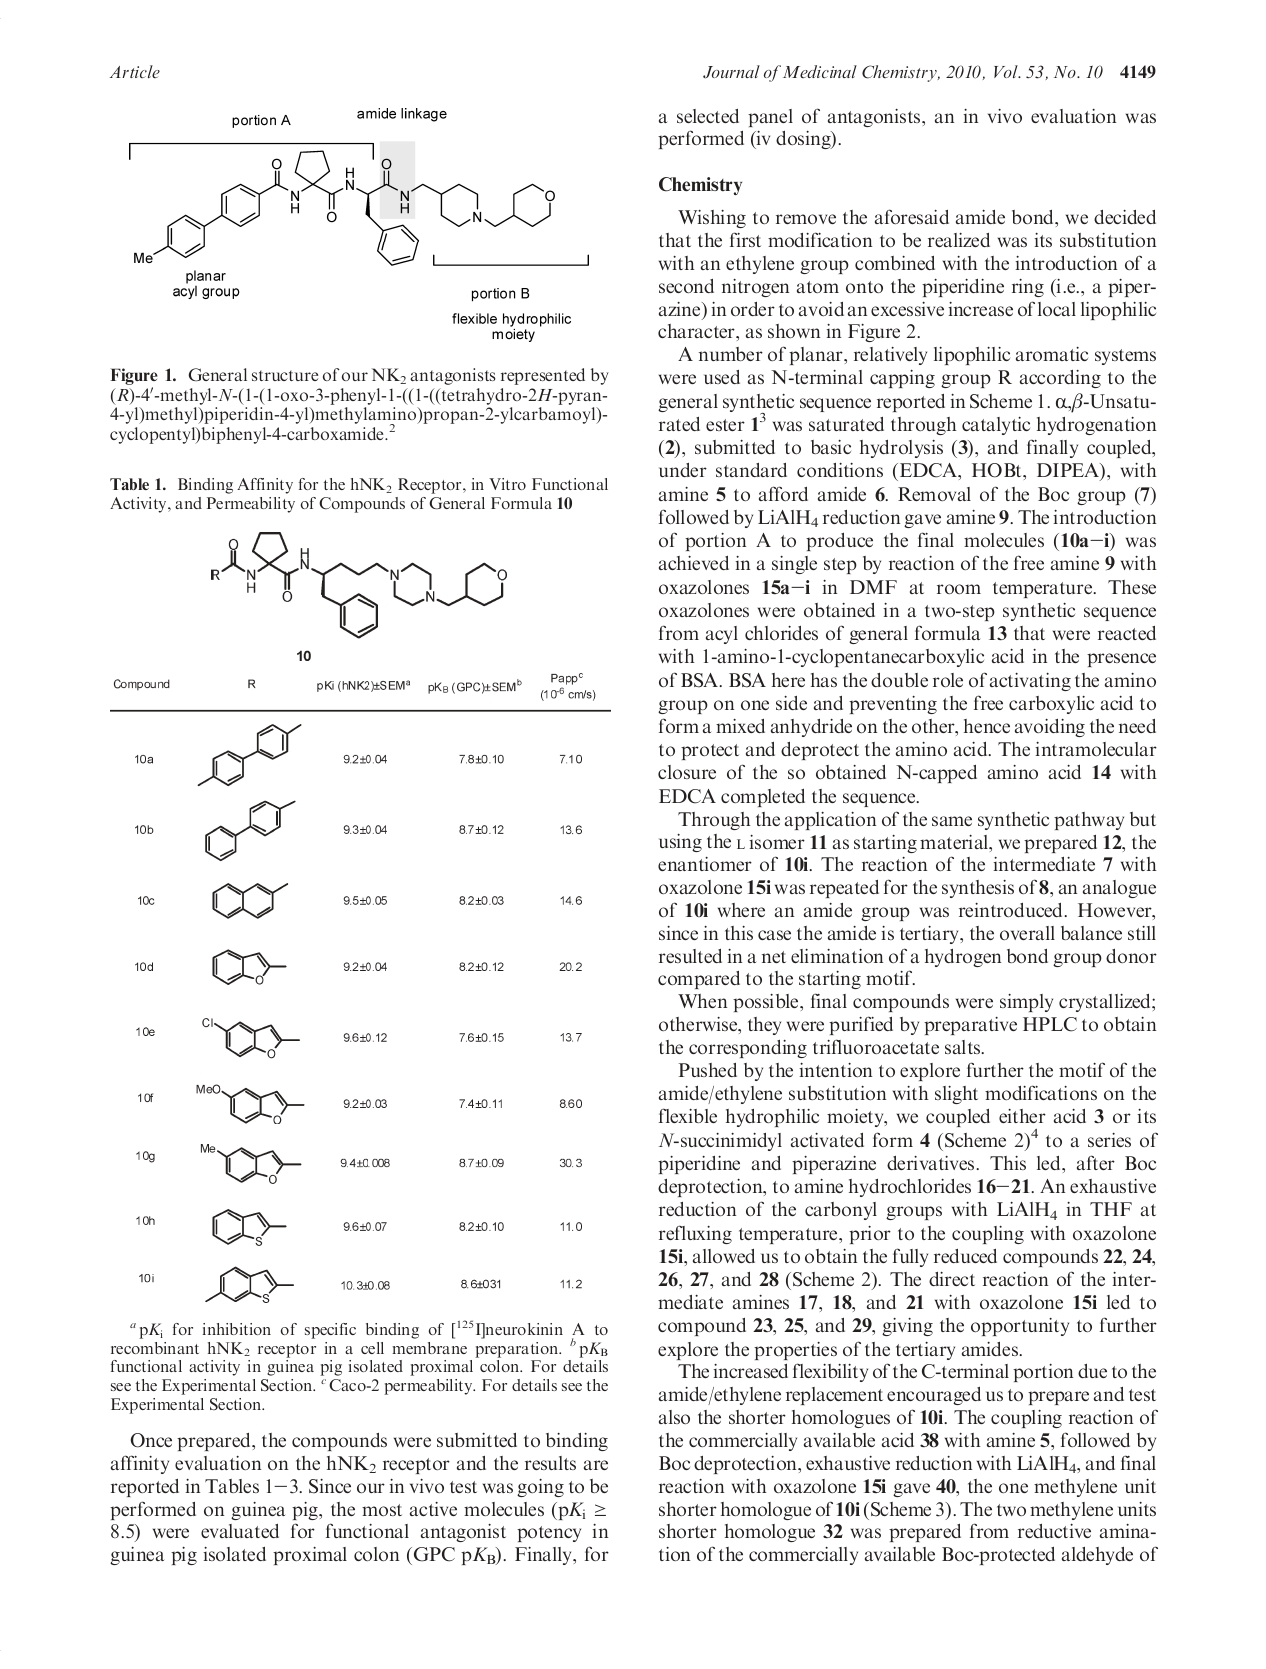exist_molecular: (128, 146, 555, 270), (206, 523, 511, 641), (194, 717, 303, 790), (202, 793, 303, 863), (191, 1080, 313, 1126), (198, 1136, 305, 1188), (201, 1011, 302, 1063), (203, 1262, 298, 1309), (203, 878, 297, 918), (206, 1205, 289, 1246), (207, 946, 289, 985)
